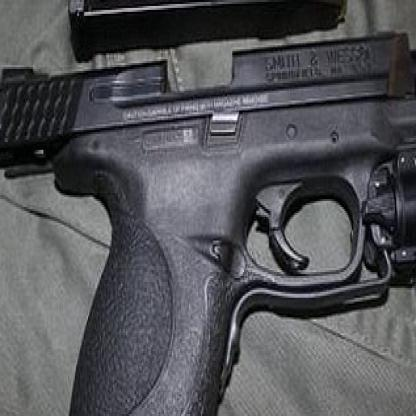gun: (0, 39, 415, 414)
